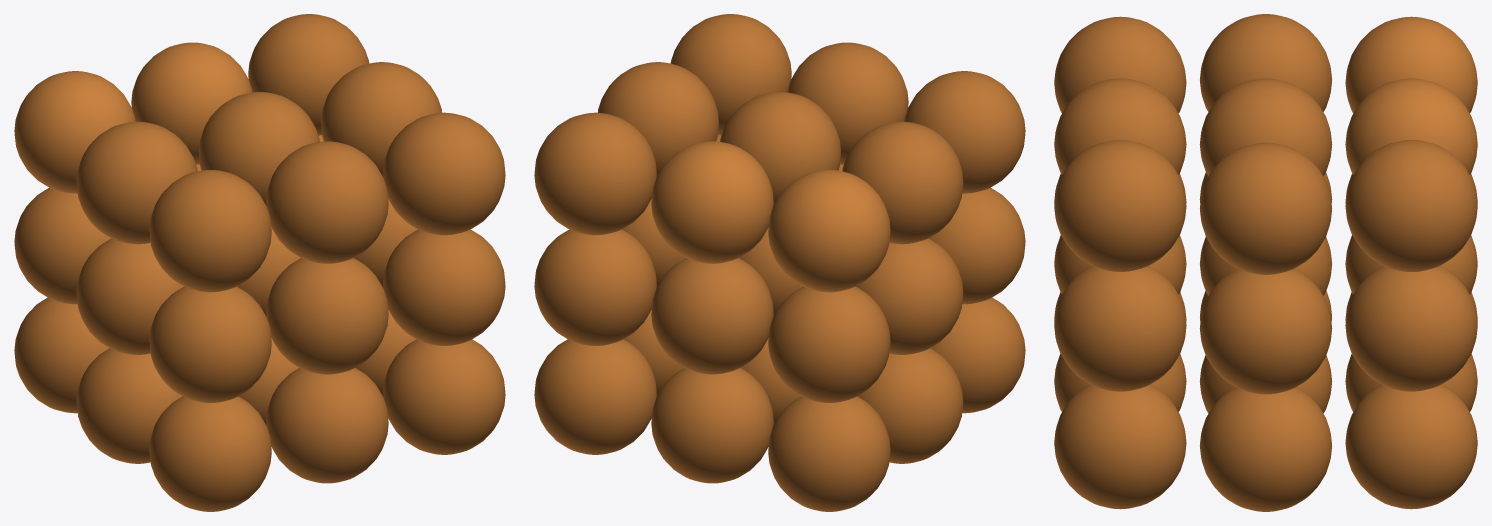
The model's file is Copper_Metalic_Bond.fbx.
3 renders of one model, left to right at view 1: azimuth 30°, elevation 25°; view 2: azimuth 150°, elevation 25°; view 3: azimuth 270°, elevation 25°, orthographic. The views are drawn at different scales.
Parts seen in each view (by area): view 1: Sphere.011, Sphere.014, Sphere.010, Sphere.006, Sphere.003, Sphere.007, Sphere.020, Sphere.023, Sphere.019, Sphere.015, Sphere.009, Sphere.002 (+11 smaller); view 2: Sphere.009, Sphere.013, Sphere.012, Sphere.008, Sphere.004, Sphere.005, Sphere.018, Sphere.022, Sphere.021, Sphere.015, Sphere.011, Sphere.002 (+11 smaller); view 3: Sphere.016, Sphere.012, Sphere.010, Sphere.001, Sphere.007, Sphere.005, Sphere.021, Sphere.019, Sphere.025, Sphere.017, Sphere.015, Sphere.011 (+9 smaller).
Part boxes in pixels (bbox=[...]): Sphere.011: bbox=[149, 170, 271, 292]; Sphere.014: bbox=[266, 141, 388, 263]; Sphere.010: bbox=[383, 112, 505, 235]; Sphere.006: bbox=[149, 286, 271, 402]; Sphere.003: bbox=[266, 258, 388, 374]; Sphere.007: bbox=[383, 229, 505, 345]; Sphere.020: bbox=[149, 396, 271, 511]; Sphere.023: bbox=[266, 368, 388, 483]; Sphere.019: bbox=[383, 339, 505, 454]; Sphere.015: bbox=[76, 121, 197, 244]; Sphere.009: bbox=[14, 71, 135, 193]; Sphere.002: bbox=[76, 238, 183, 354]; Sphere.009: bbox=[768, 170, 890, 292]; Sphere.013: bbox=[651, 141, 773, 263]; Sphere.012: bbox=[534, 112, 656, 235]; Sphere.008: bbox=[768, 286, 890, 402]; Sphere.004: bbox=[651, 258, 773, 374]; Sphere.005: bbox=[534, 229, 656, 345]; Sphere.018: bbox=[768, 396, 890, 511]; Sphere.022: bbox=[651, 368, 773, 483]; Sphere.021: bbox=[534, 339, 656, 454]; Sphere.015: bbox=[842, 121, 963, 244]; Sphere.011: bbox=[904, 71, 1025, 193]; Sphere.002: bbox=[856, 238, 963, 354]; Sphere.016: bbox=[1200, 142, 1331, 274]; Sphere.012: bbox=[1345, 140, 1477, 272]; Sphere.010: bbox=[1054, 140, 1186, 272]; Sphere.001: bbox=[1199, 268, 1332, 394]; Sphere.007: bbox=[1054, 266, 1186, 391]; Sphere.005: bbox=[1345, 266, 1477, 391]; Sphere.021: bbox=[1345, 384, 1477, 509]; Sphere.019: bbox=[1054, 384, 1186, 509]; Sphere.025: bbox=[1200, 387, 1331, 511]; Sphere.017: bbox=[1199, 78, 1332, 176]; Sphere.015: bbox=[1200, 14, 1331, 111]; Sphere.011: bbox=[1054, 16, 1186, 113].
Size of the model in its own units: 660 by 595 by 640.
